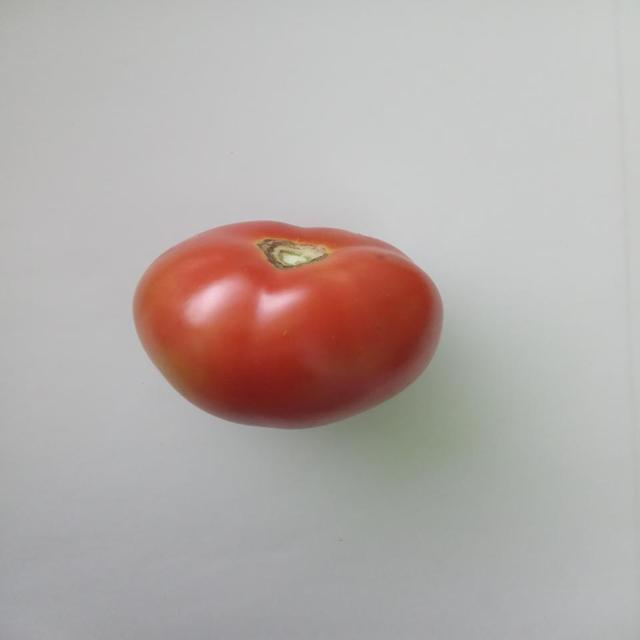Healthy Fruit: (89, 143, 299, 289)
